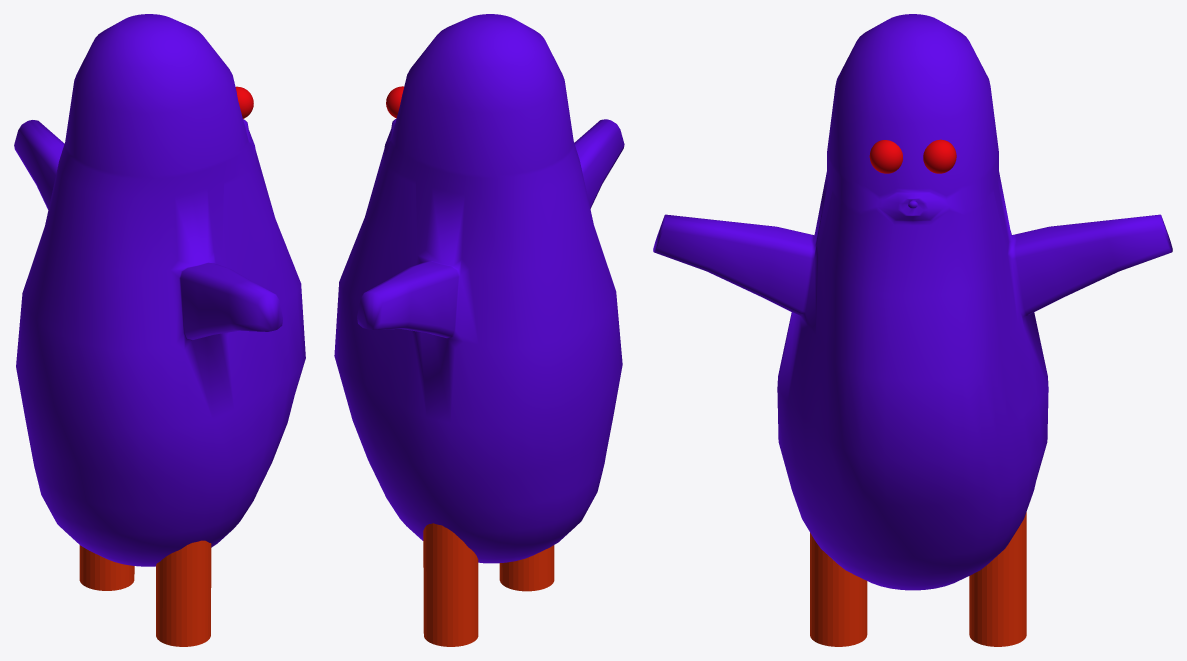
Rendered from Boingo.fbx.
3 views of the same model, side by side, from view 1: azimuth 30°, elevation 25°; view 2: azimuth 150°, elevation 25°; view 3: azimuth 270°, elevation 25° (orthographic). The views are drawn at different scales.
Visible parts, largest first — view 1: Sphere; view 2: Sphere; view 3: Sphere.
Part boxes in pixels (x1=…): Sphere: x1=14, y1=14, x2=305, y2=646; Sphere: x1=334, y1=14, x2=624, y2=646; Sphere: x1=653, y1=14, x2=1172, y2=646.
Size of the model in its own units: 195 by 433 by 333.
